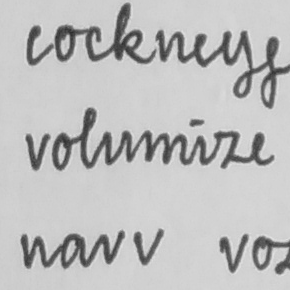e: (249, 129, 278, 168)
i: (190, 118, 210, 168)
l: (77, 105, 100, 171)
m: (141, 129, 189, 168)
o: (51, 131, 74, 172)
u: (101, 127, 135, 167)
v: (22, 131, 50, 172)
z: (212, 127, 245, 171)
